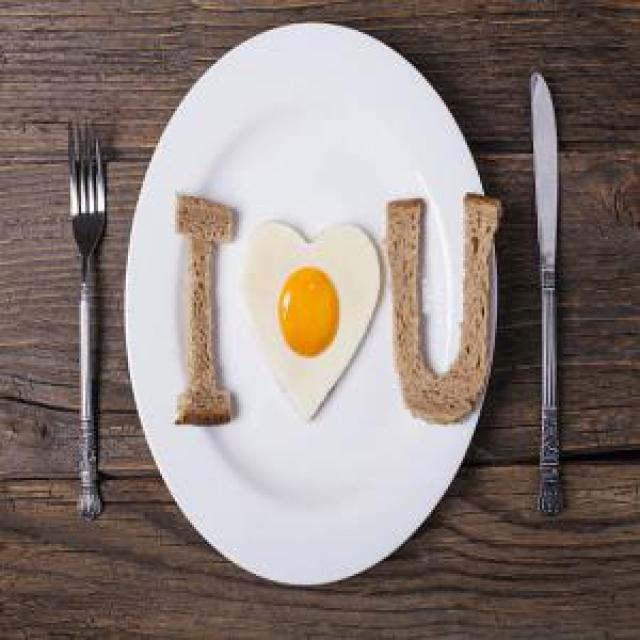knife: (527, 70, 559, 516)
